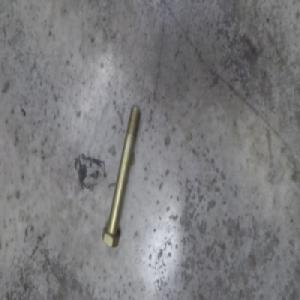Bolt: (98, 106, 141, 246)
